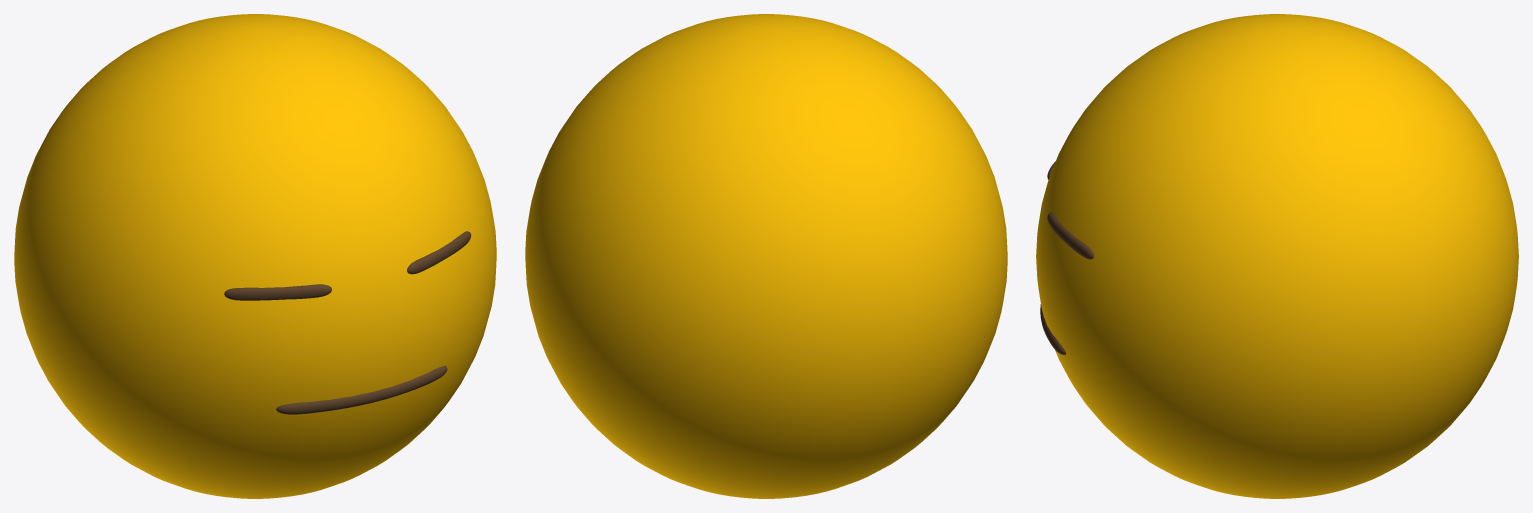
File: Emoticon_40.dae
3 renders of one model, left to right at view 1: azimuth 30°, elevation 25°; view 2: azimuth 150°, elevation 25°; view 3: azimuth 270°, elevation 25°, orthographic.
Visible parts, largest first — view 1: Emoticon 40; view 2: Emoticon 40; view 3: Emoticon 40.
Boxes of the visible parts, x1,y1,x2,y2 form: Emoticon 40: [14, 14, 496, 498]; Emoticon 40: [525, 14, 1007, 498]; Emoticon 40: [1036, 14, 1518, 498].
Size of the model in its own units: 7.32 by 7.32 by 7.4.
1 material, 1 textured.
